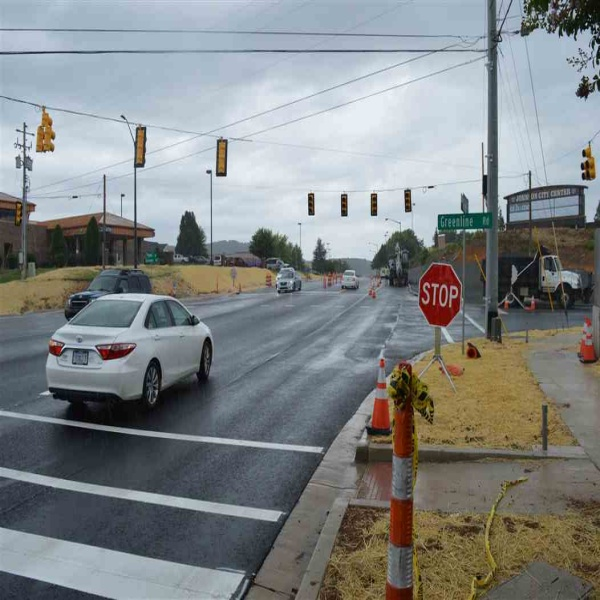stop: (419, 261, 469, 331)
